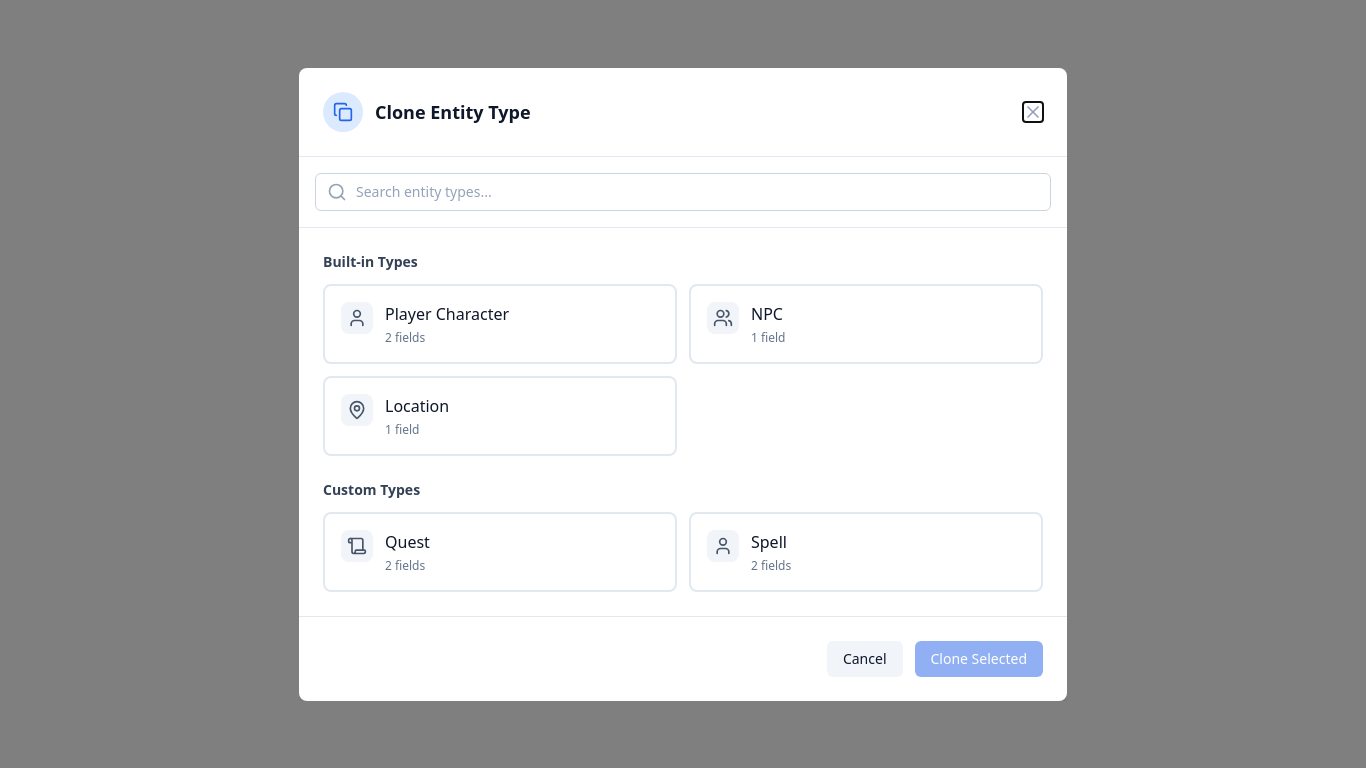
Test case: EntityTypeClonePicker - Type Selection (Issue #210) › should enable Clone Selected button when a type is selected
Check: the button "Clone Selected" is disabled, box [914,640,1043,676]
Step 1. Click the button "NPC 1 field" → (723, 318), box [689,284,1043,364]
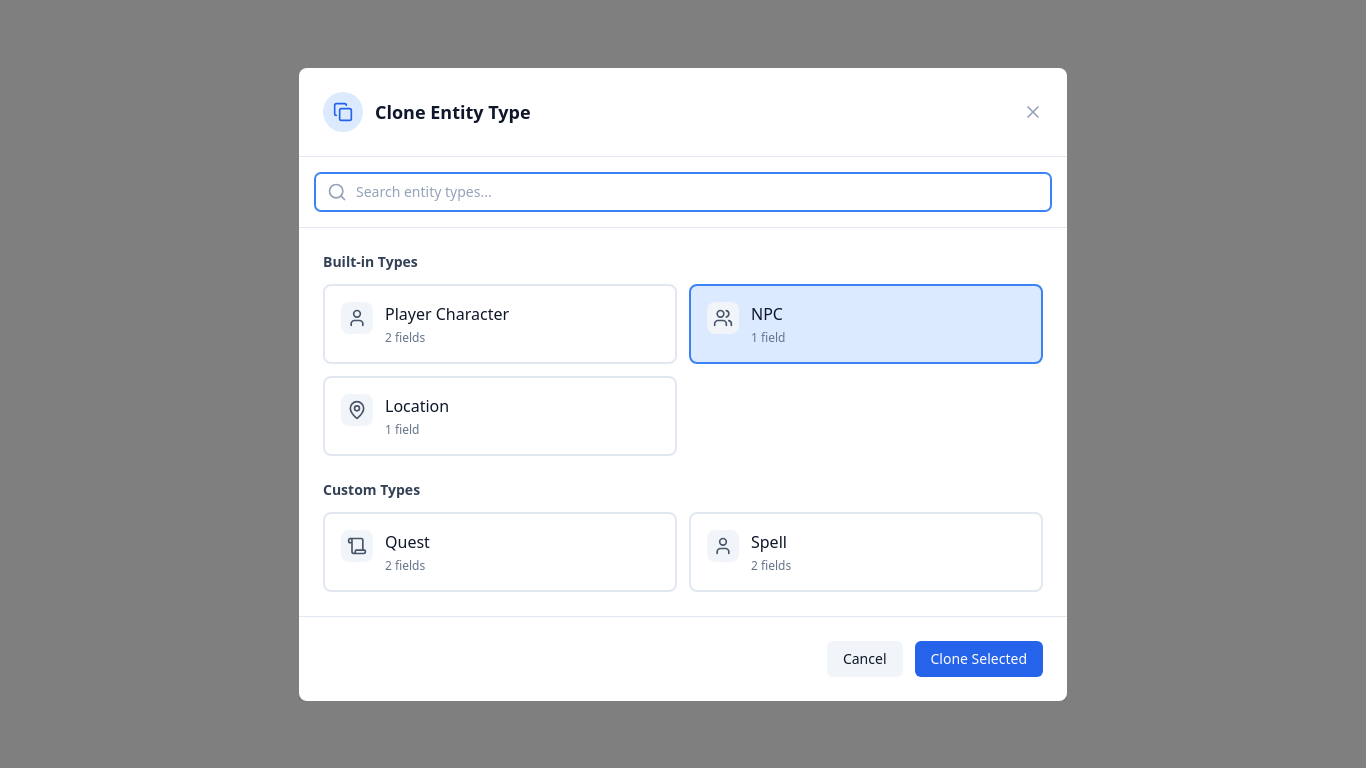
Check: the button "Clone Selected" is enabled, box [914,640,1043,676]
